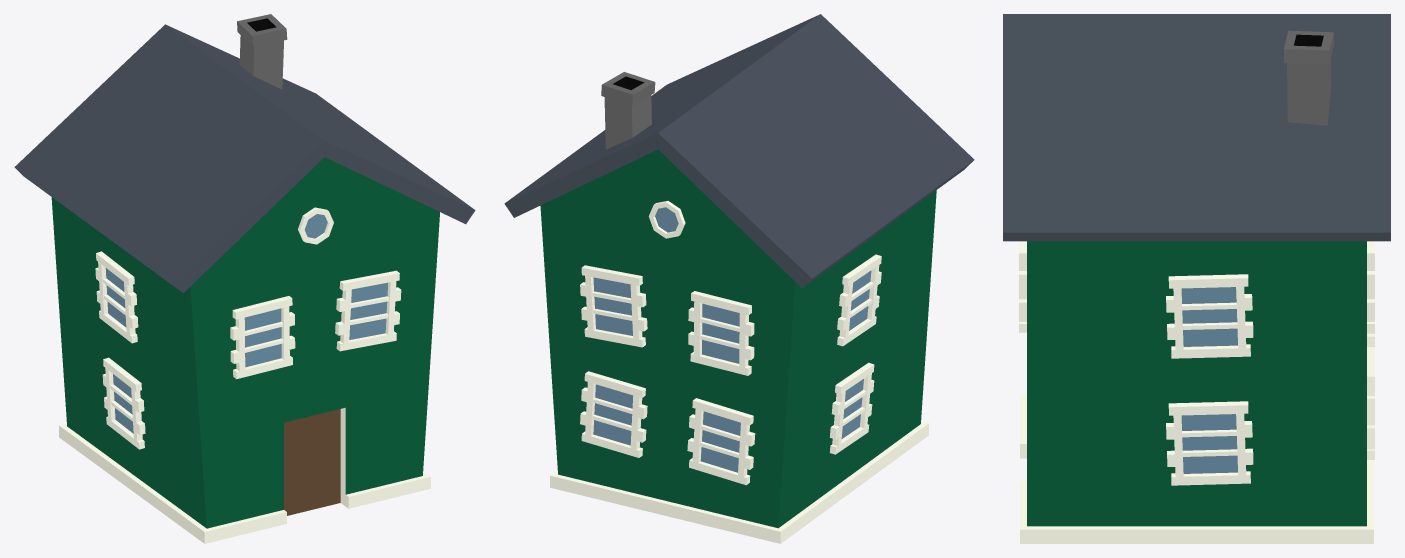
File: house6.gltf
The picture shows the model from 3 angles, left to right: view 1: azimuth 30°, elevation 25°; view 2: azimuth 150°, elevation 25°; view 3: azimuth 270°, elevation 25°; orthographic projection. The views are drawn at different scales.
Visible parts, largest first — view 1: h2.005; view 2: h2.005; view 3: h2.005.
Boxes of the visible parts, x1,y1,x2,y2 form: h2.005: (14, 14, 475, 543); h2.005: (504, 14, 974, 543); h2.005: (1003, 14, 1390, 543).
Size of the model in its own units: 7.12 by 8.78 by 6.51.
Materials: 1 (1 with a texture image).
